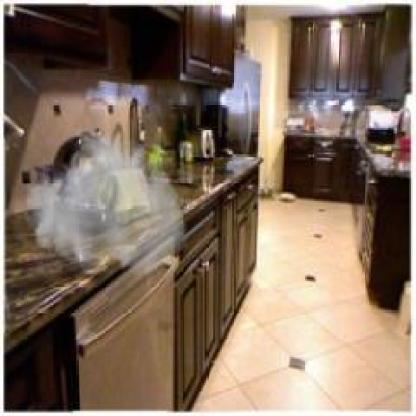Smoke: (21, 126, 190, 276)
